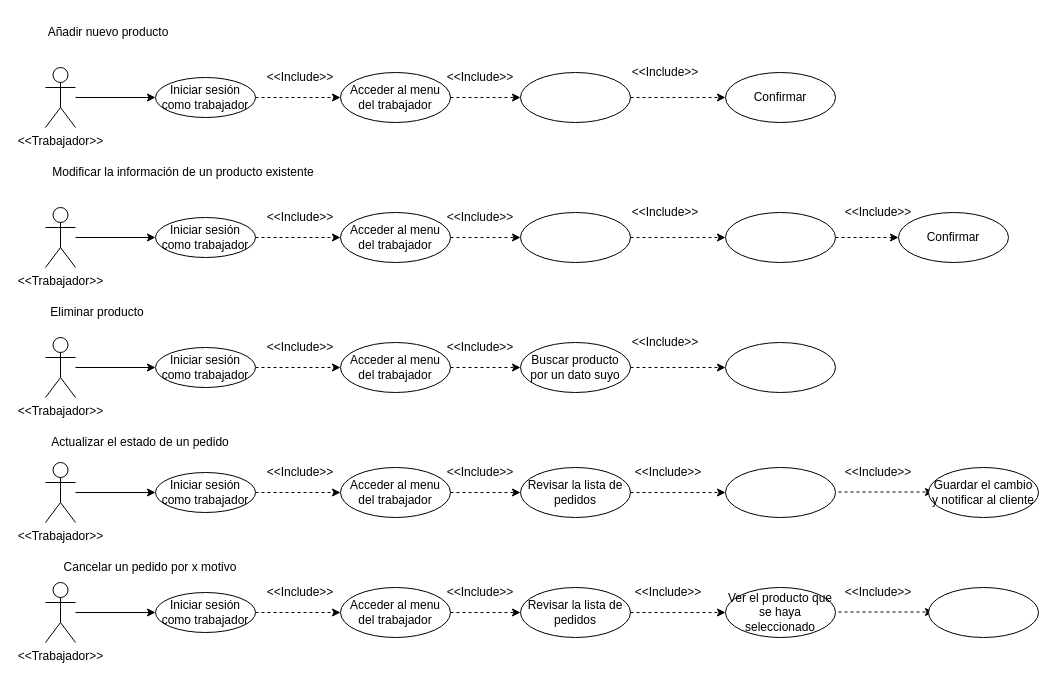
Image size: 1056x695. Some labels were removed from this diagram. The centre of each missing label's shape, as x and y in pixels:
"Añadir producto y poner su información" goes at point (575, 97).
"Buscar producto por su nombre, id." goes at point (575, 237).
"Cambiar el estado del pedido dependiendo de como este" goes at point (780, 492).
"Editar el dato que queramos" goes at point (780, 237).
"Eliminar" goes at point (780, 367).
"Poner la justificación y cancelarlo" goes at point (983, 612).
